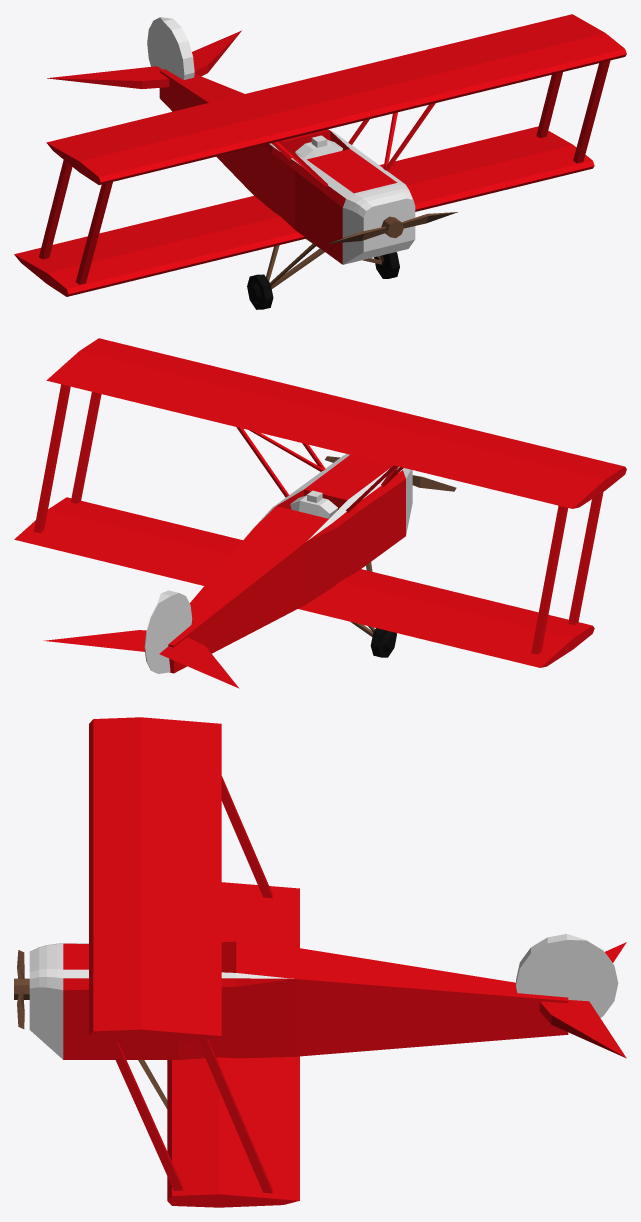
The model's file is redbaron.fbx.
3 renders of one model, top to bottom at view 1: azimuth 30°, elevation 25°; view 2: azimuth 150°, elevation 25°; view 3: azimuth 270°, elevation 25°, orthographic. The views are drawn at different scales.
Parts seen in each view (by area): view 1: Wings, Airplane Body, Tail, Rudder, Propeller, WheelsStructre, Wheel_R, PilotBody, Wheel_L; view 2: Wings, Airplane Body, Tail, Rudder, PilotBody, Wheel_R; view 3: Wings, Airplane Body, Rudder, Tail, Propeller.
Boxes of the visible parts, bbox=[...] form: Wings: bbox=[14, 14, 626, 296]; Airplane Body: bbox=[159, 69, 415, 264]; Tail: bbox=[47, 30, 241, 89]; Rudder: bbox=[147, 17, 194, 79]; Propeller: bbox=[327, 212, 457, 243]; WheelsStructre: bbox=[266, 238, 384, 288]; Wheel_R: bbox=[247, 274, 273, 309]; PilotBody: bbox=[295, 135, 342, 159]; Wheel_L: bbox=[374, 252, 399, 278]; Wings: bbox=[14, 338, 626, 667]; Airplane Body: bbox=[168, 454, 412, 673]; Tail: bbox=[43, 630, 239, 688]; Rudder: bbox=[144, 590, 192, 673]; PilotBody: bbox=[290, 490, 337, 518]; Wheel_R: bbox=[370, 628, 396, 657]; Wings: bbox=[89, 717, 299, 1207]; Airplane Body: bbox=[29, 941, 568, 1059]; Rudder: bbox=[516, 934, 618, 1017]; Tail: bbox=[539, 942, 626, 1058]; Propeller: bbox=[14, 950, 29, 1028].
Bounding box in the file's own units: 1600 × 615 × 1327.
